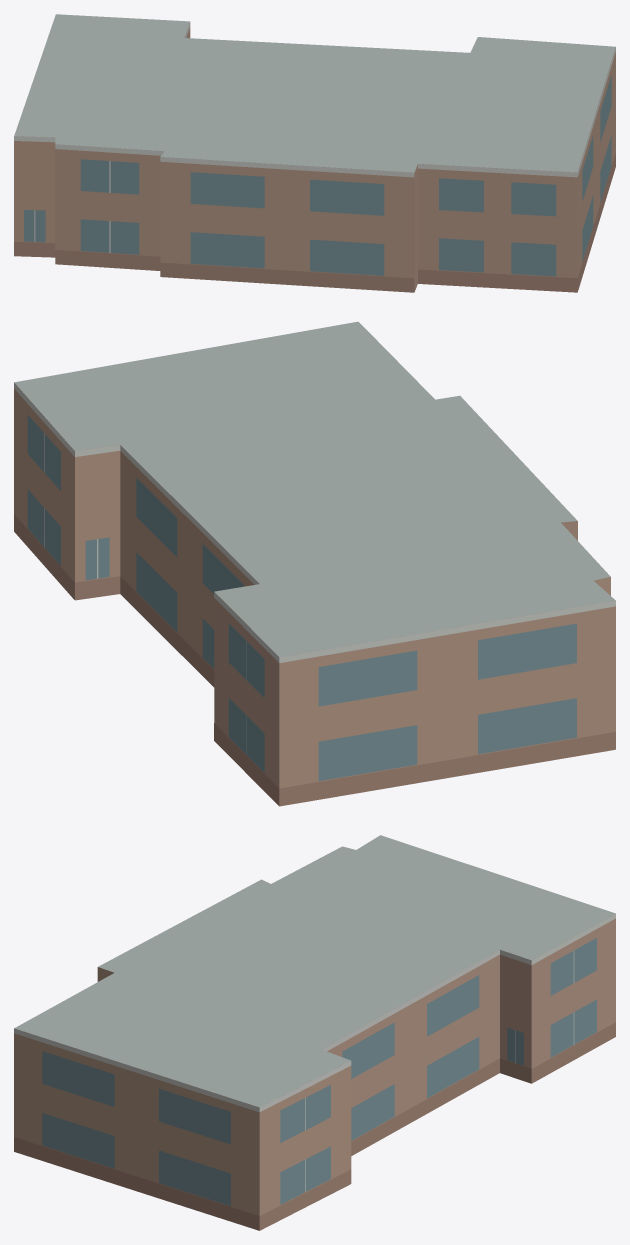
Rendered from survey-upis-32950134.glb.
The picture shows the model from 3 angles, top to bottom: view 1: azimuth 30°, elevation 25°; view 2: azimuth 150°, elevation 25°; view 3: azimuth 270°, elevation 25°; orthographic projection. The views are drawn at different scales.
Visible parts, largest first — view 1: survey-upis-32950134.tmp; view 2: survey-upis-32950134.tmp; view 3: survey-upis-32950134.tmp.
Part boxes in pixels (x1,y1,x2,y2): survey-upis-32950134.tmp: (14,14,615,292); survey-upis-32950134.tmp: (14,321,615,806); survey-upis-32950134.tmp: (14,835,615,1230).
Bounding box in the file's own units: 28.88 × 6.1 × 26.97.
